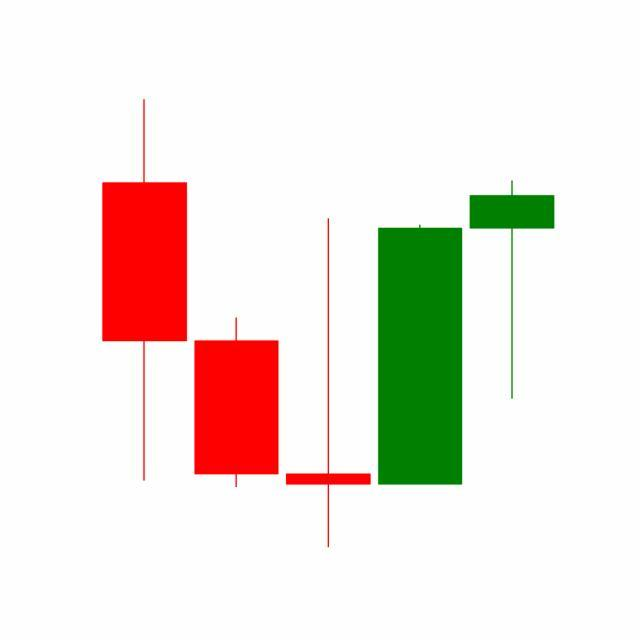Hanging Man: (466, 179, 559, 403)
